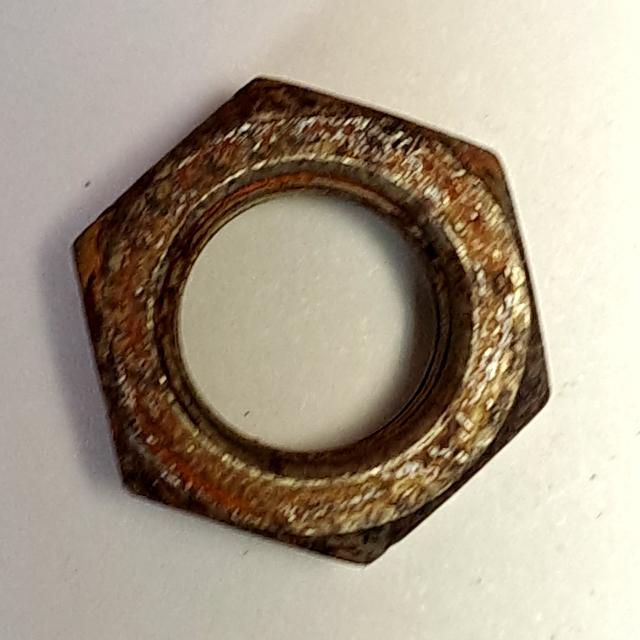Rust: (59, 51, 572, 590)
